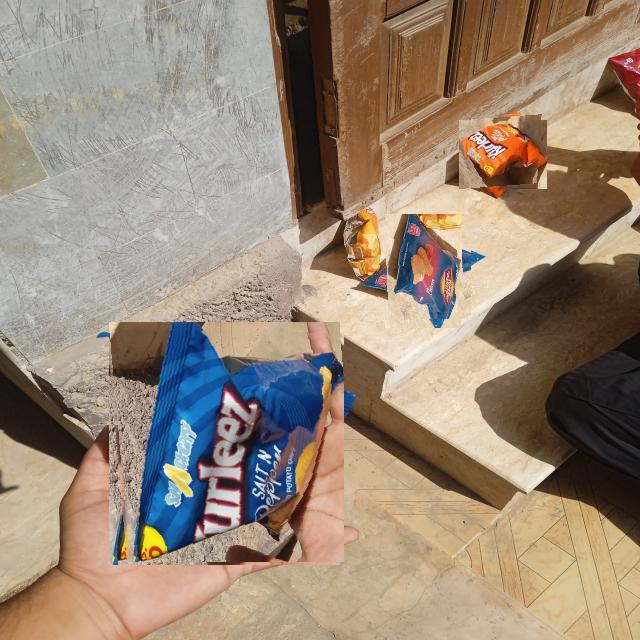Plastic: (106, 325, 344, 562), (375, 224, 471, 319), (464, 114, 542, 194)
